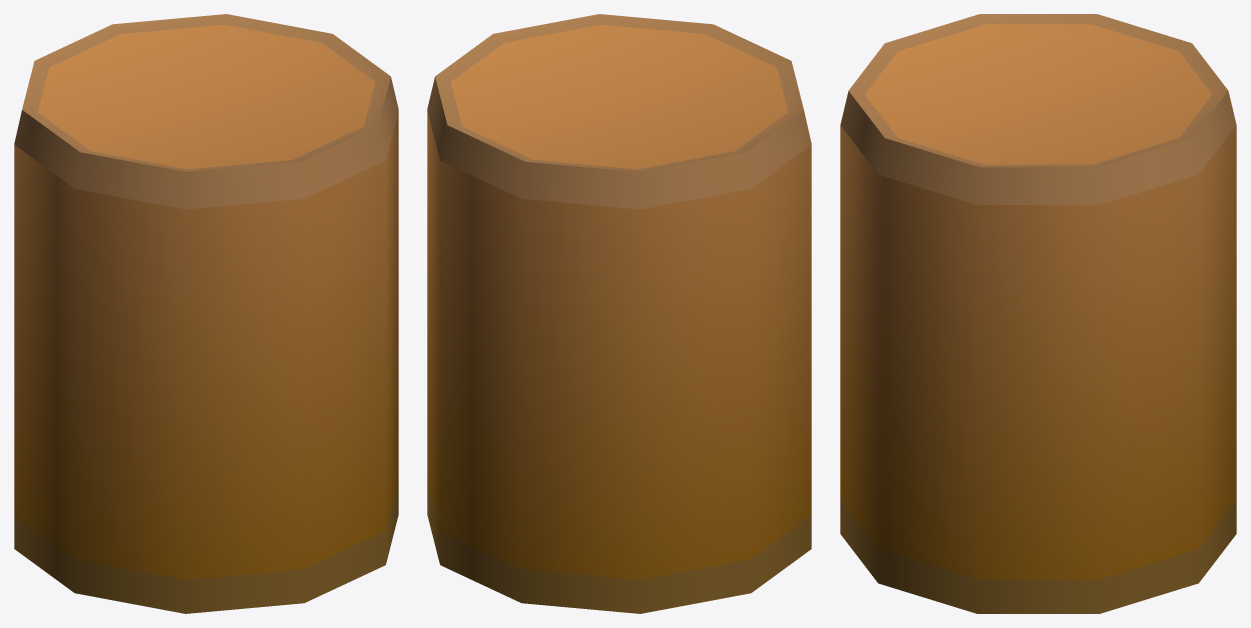
Rendered from can_orange.fbx.
The picture shows the model from 3 angles, left to right: view 1: azimuth 30°, elevation 25°; view 2: azimuth 150°, elevation 25°; view 3: azimuth 270°, elevation 25°; orthographic projection.
Visible parts, largest first — view 1: can_orange; view 2: can_orange; view 3: can_orange.
Part boxes in pixels (<box>): can_orange: <box>14,14,398,613</box>; can_orange: <box>427,14,811,613</box>; can_orange: <box>840,14,1236,613</box>.
Bounding box in the file's own units: 104 × 134 × 109.
